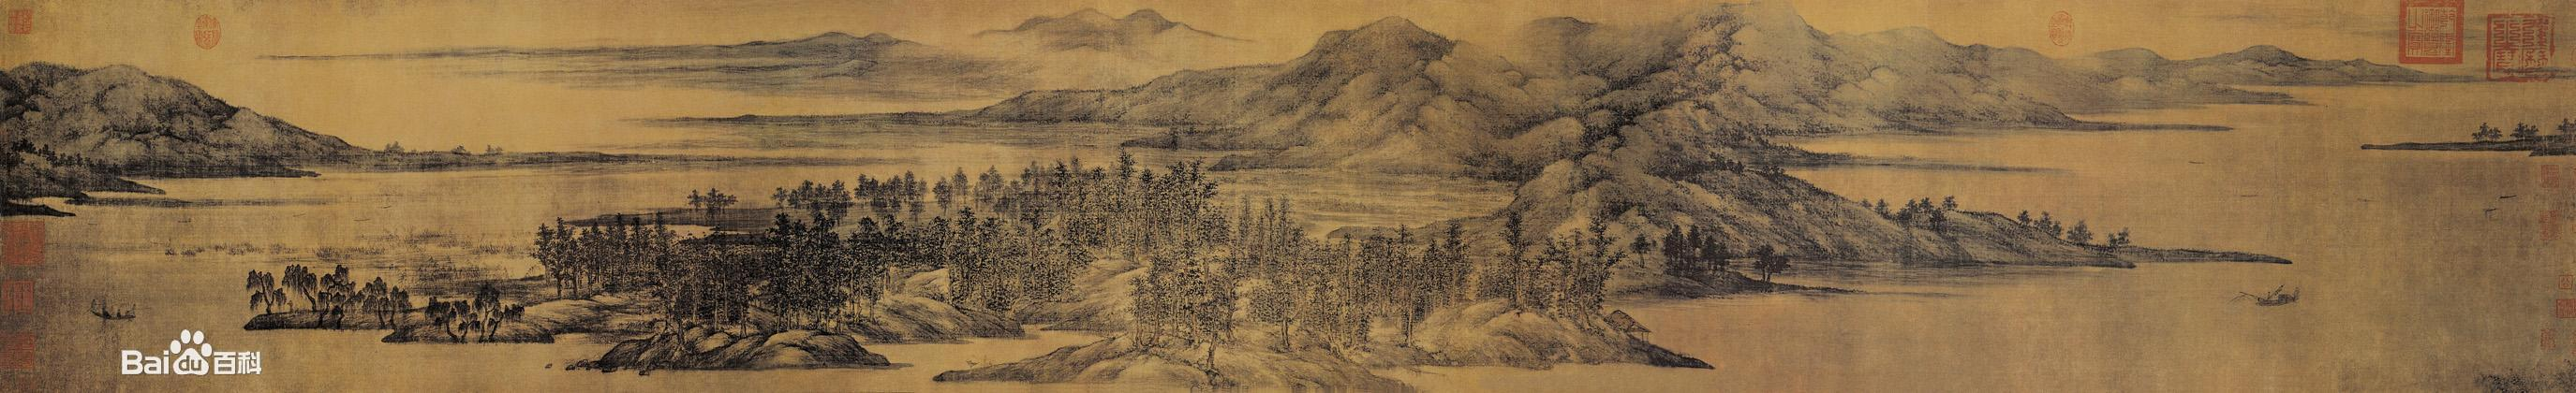boat: (89, 296, 138, 328), (2251, 292, 2317, 311), (152, 239, 171, 248), (178, 219, 195, 224)
hill: (21, 56, 238, 176), (623, 313, 871, 370)
house: (692, 228, 783, 258), (1605, 308, 1662, 350), (794, 196, 844, 210)
man: (287, 300, 300, 317)
range: (1530, 23, 1792, 297), (1102, 56, 1827, 152), (1814, 16, 2361, 117)
river: (1764, 286, 2462, 393), (2006, 132, 2519, 255), (246, 54, 751, 142), (163, 176, 536, 255), (49, 215, 273, 325), (291, 327, 576, 393)
tree: (1245, 204, 1369, 342), (777, 219, 884, 323), (1137, 247, 1235, 353), (1062, 162, 1180, 249), (537, 221, 671, 283), (1363, 238, 1448, 332), (1484, 255, 1599, 310), (669, 250, 744, 326), (890, 224, 1025, 262), (978, 167, 1061, 224), (954, 254, 1022, 306), (1670, 226, 1725, 275), (859, 174, 929, 210), (688, 188, 733, 215), (1756, 244, 1784, 288)
willow: (247, 267, 416, 315), (475, 282, 520, 343), (428, 299, 479, 347)
